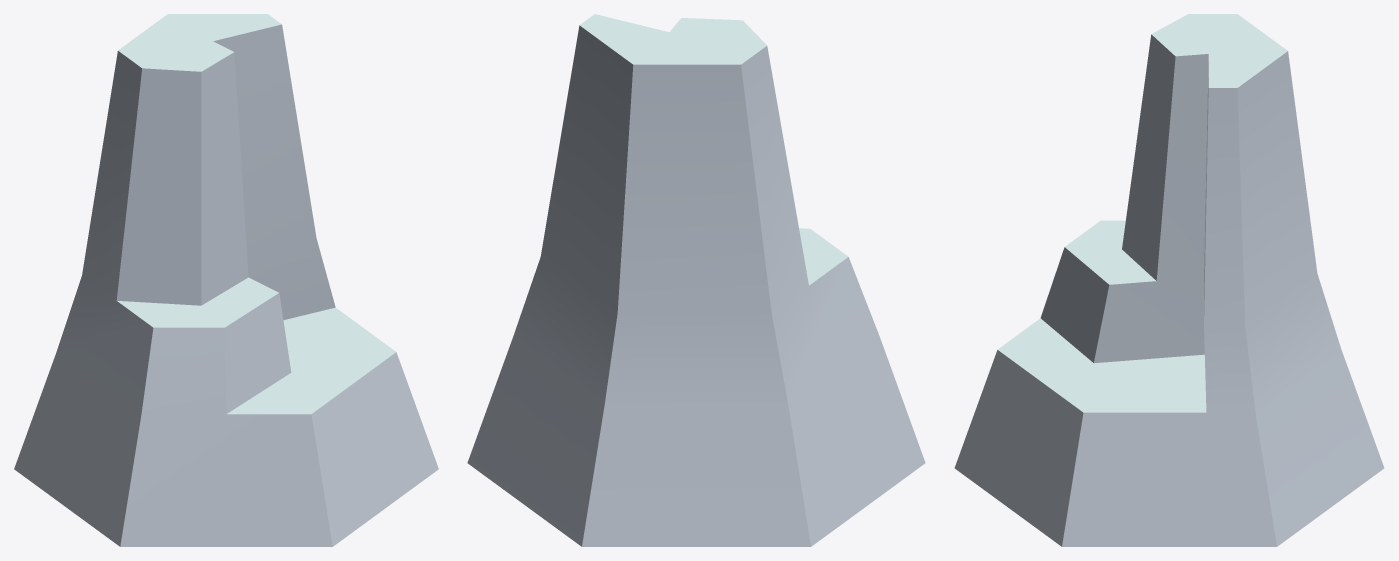
Rendered from rockFormationSmall.glb.
The picture shows the model from 3 angles, left to right: view 1: azimuth 30°, elevation 25°; view 2: azimuth 150°, elevation 25°; view 3: azimuth 270°, elevation 25°; orthographic projection. The views are drawn at different scales.
Visible parts, largest first — view 1: rockFormationSmall(Clone); view 2: rockFormationSmall(Clone); view 3: rockFormationSmall(Clone).
Boxes of the visible parts, x1,y1,x2,y2 form: rockFormationSmall(Clone): [14, 14, 438, 546]; rockFormationSmall(Clone): [467, 14, 925, 546]; rockFormationSmall(Clone): [954, 14, 1384, 546].
Size of the model in its own units: 0.5399 by 0.6674 by 0.6234.
